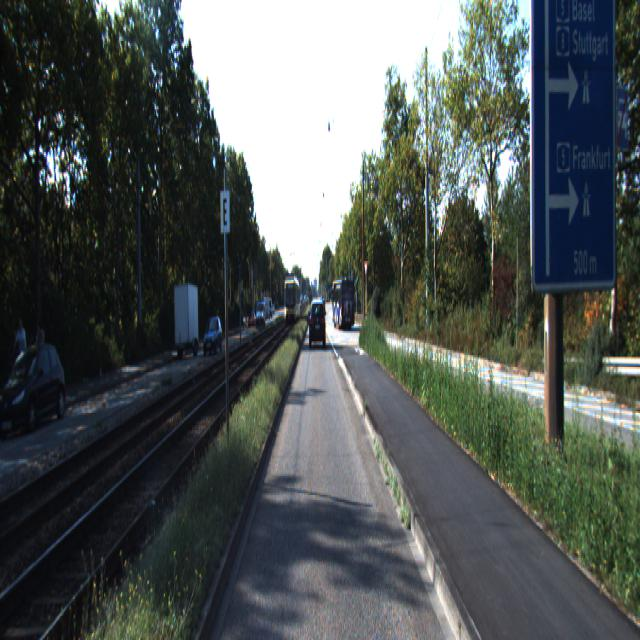Car: (0, 342, 69, 440), (172, 283, 199, 360), (332, 278, 355, 331), (202, 316, 222, 356), (309, 300, 325, 349)
